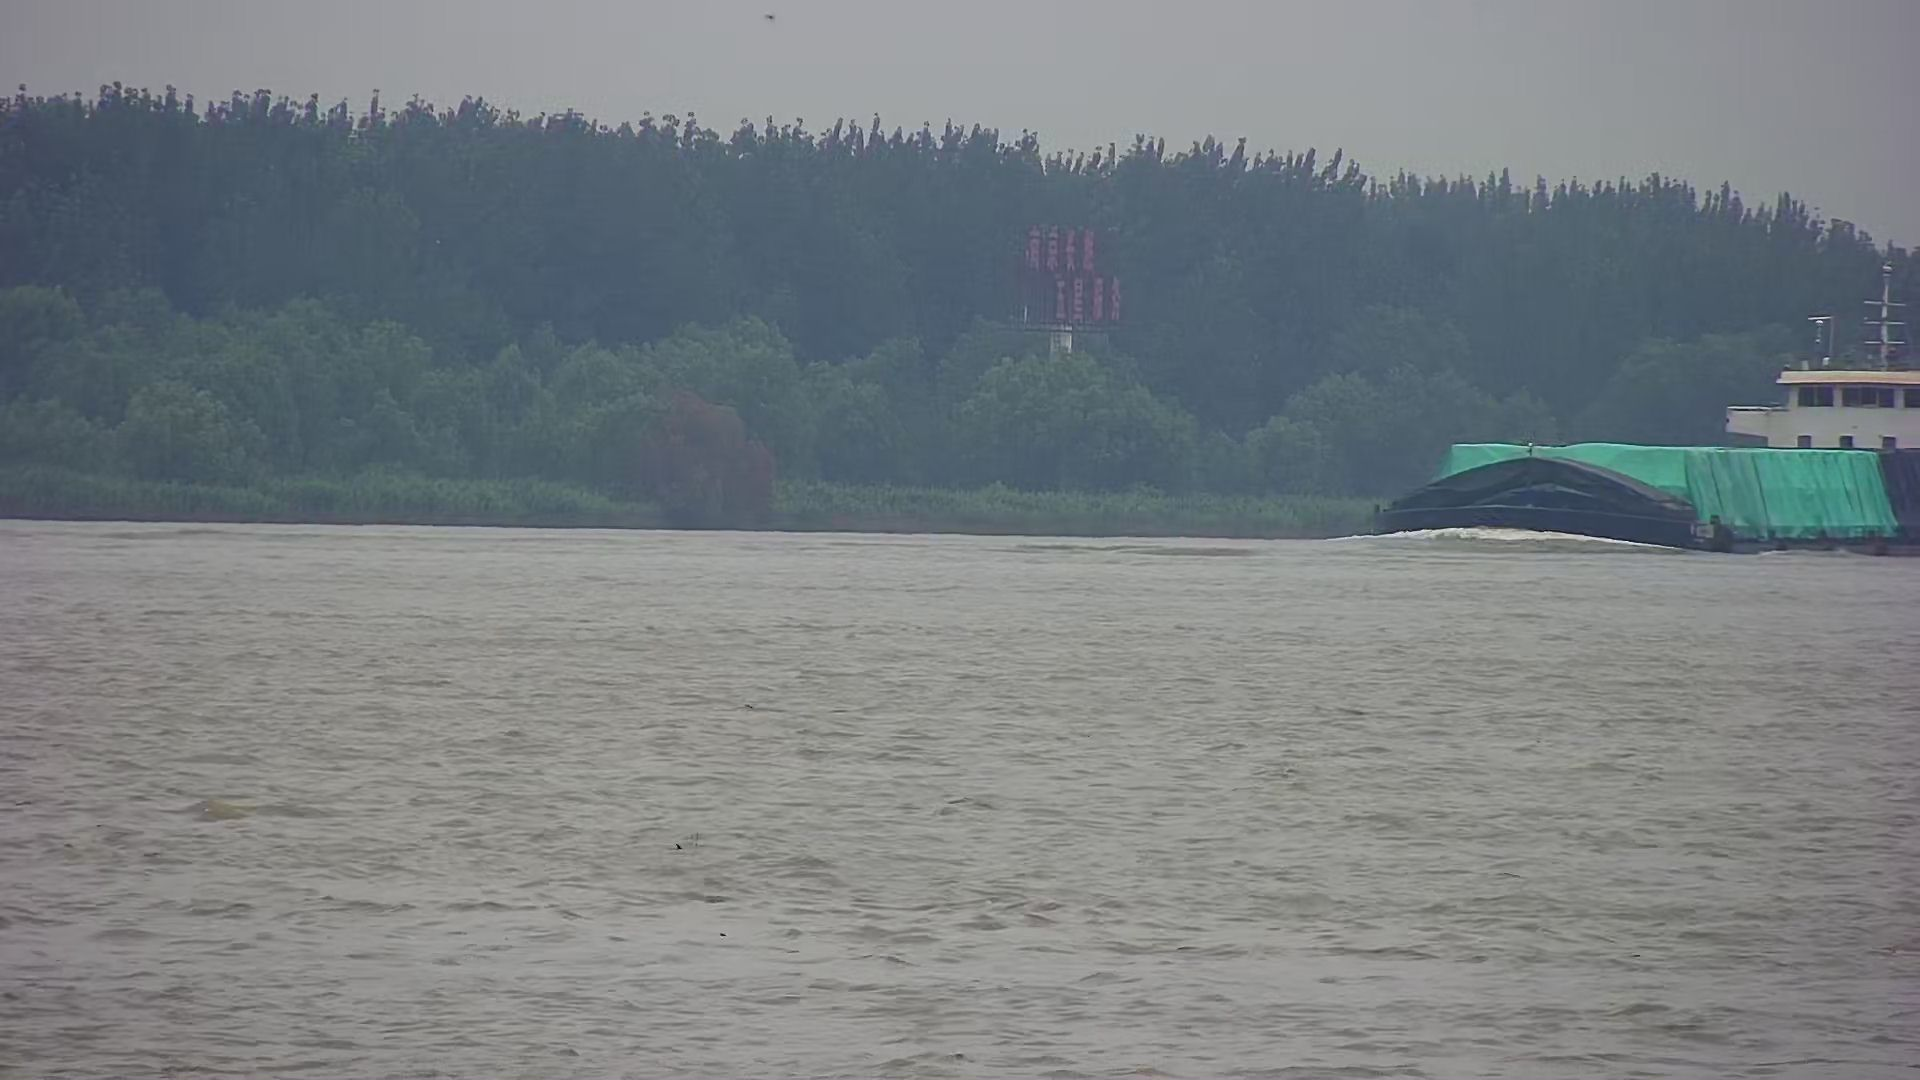ship: (1352, 290, 1920, 560)
